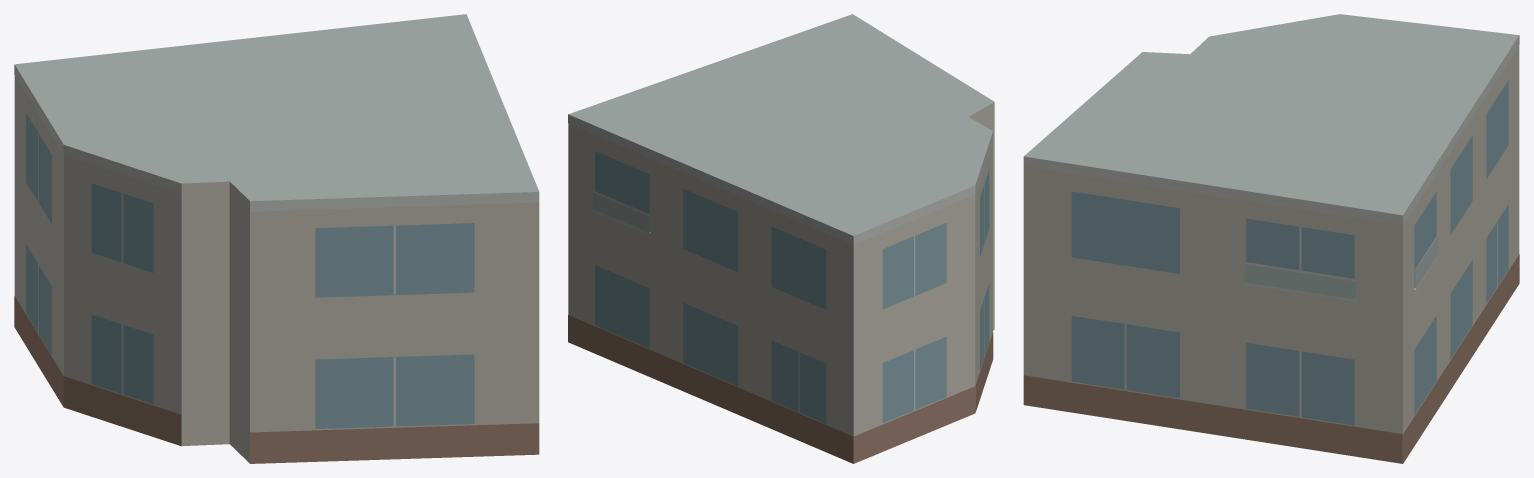
Rendered from survey-upis-32997107.glb.
3 renders of one model, left to right at view 1: azimuth 30°, elevation 25°; view 2: azimuth 150°, elevation 25°; view 3: azimuth 270°, elevation 25°, orthographic. The views are drawn at different scales.
Visible parts, largest first — view 1: survey-upis-32997107.tmp; view 2: survey-upis-32997107.tmp; view 3: survey-upis-32997107.tmp.
Boxes of the visible parts, bbox=[...] form: survey-upis-32997107.tmp: bbox=[14, 14, 539, 463]; survey-upis-32997107.tmp: bbox=[568, 14, 994, 463]; survey-upis-32997107.tmp: bbox=[1023, 14, 1519, 463].
Size of the model in its own units: 10.61 by 6.1 by 11.04.
